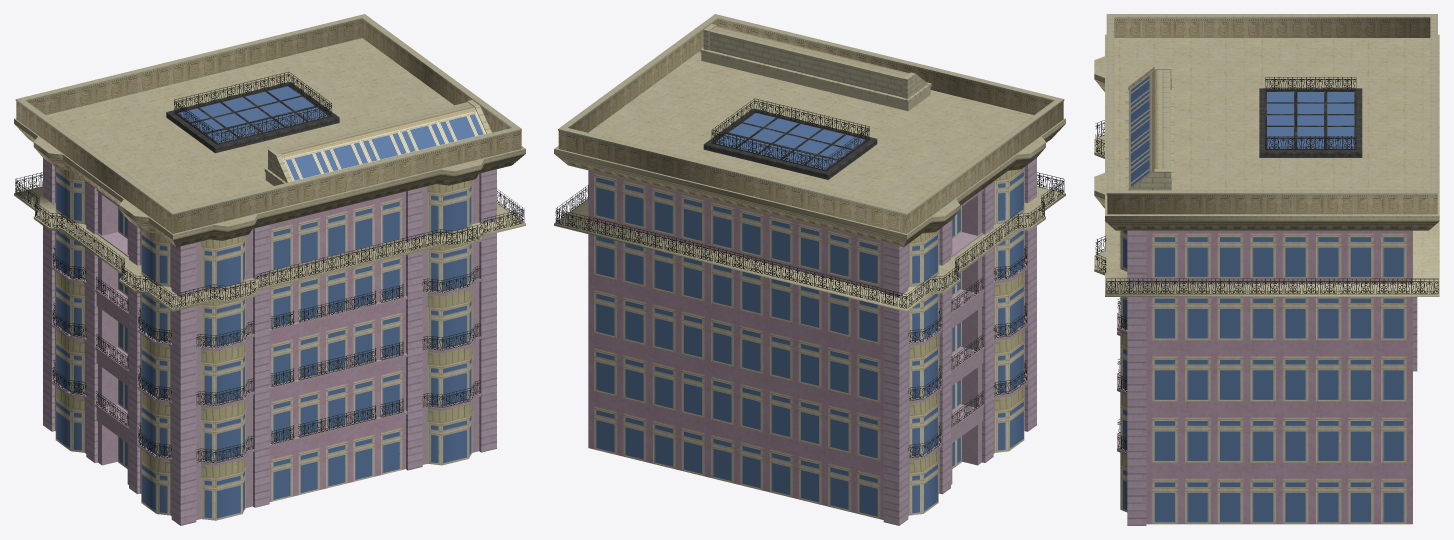
File: BuilA.fbx
3 views of the same model, side by side, from view 1: azimuth 30°, elevation 25°; view 2: azimuth 150°, elevation 25°; view 3: azimuth 270°, elevation 25° (orthographic). The views are drawn at different scales.
Parts seen in each view (by area): view 1: ct2_02_n1_tk1_builA_01; view 2: ct2_02_n1_tk1_builA_01; view 3: ct2_02_n1_tk1_builA_01.
Part boxes in pixels (x1,y1,x2,y2): ct2_02_n1_tk1_builA_01: [14, 14, 525, 525]; ct2_02_n1_tk1_builA_01: [554, 14, 1065, 525]; ct2_02_n1_tk1_builA_01: [1094, 14, 1439, 525].
Bounding box in the file's own units: 2522 × 2229 × 1977.
